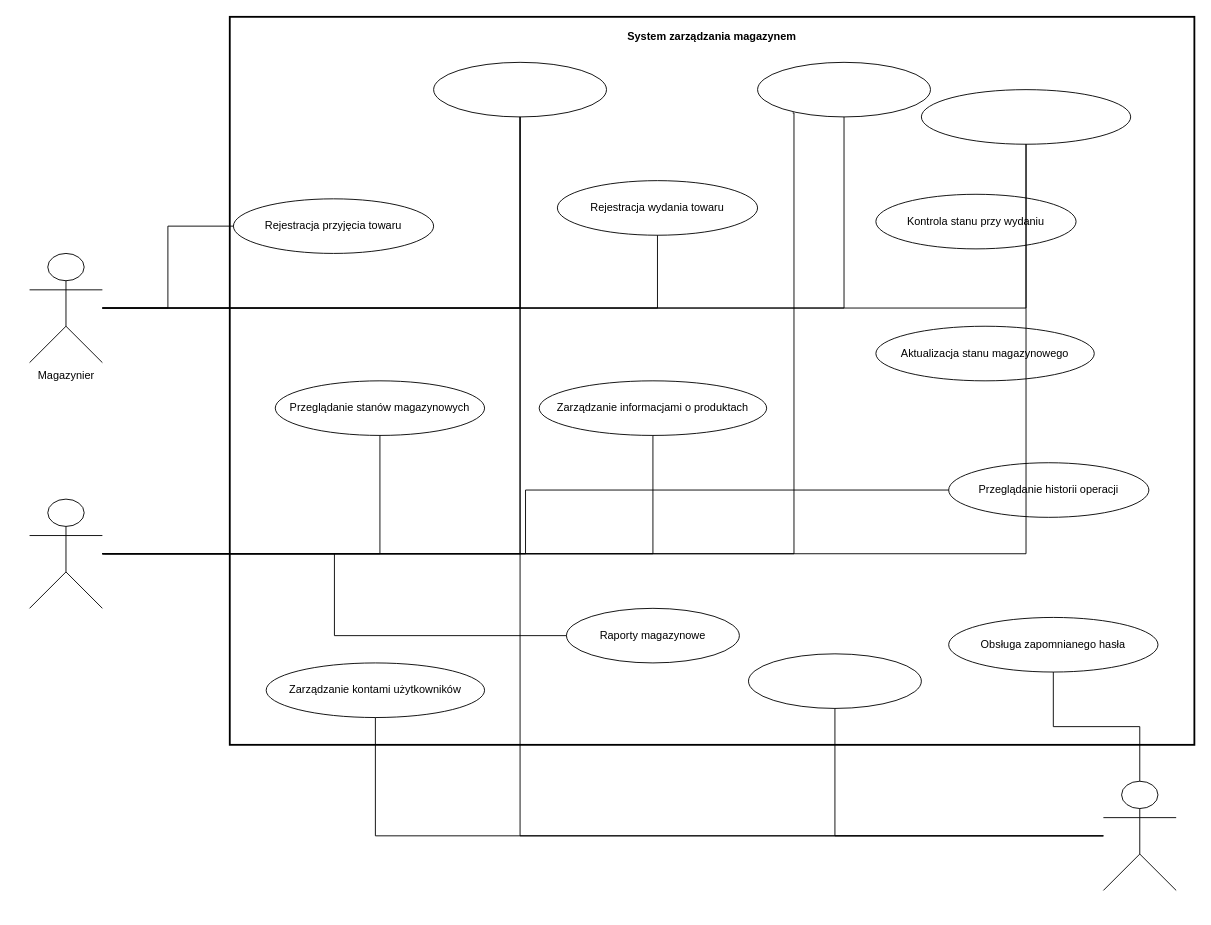
Image size: 1211x925. Some labels were removed from this diagram. The box of each missing label's shape, as (x1, y1, x2, y2) in pixels:
Administrator: (1102, 780, 1176, 890)
Kierownik magazynu: (29, 498, 102, 608)
Logowanie użytkownika: (433, 61, 607, 117)
Nadawanie uprawnień: (748, 653, 921, 708)
Sprawdzanie lokalizacji produktu: (920, 89, 1131, 144)
Wyszukiwanie produktu: (757, 61, 930, 117)
